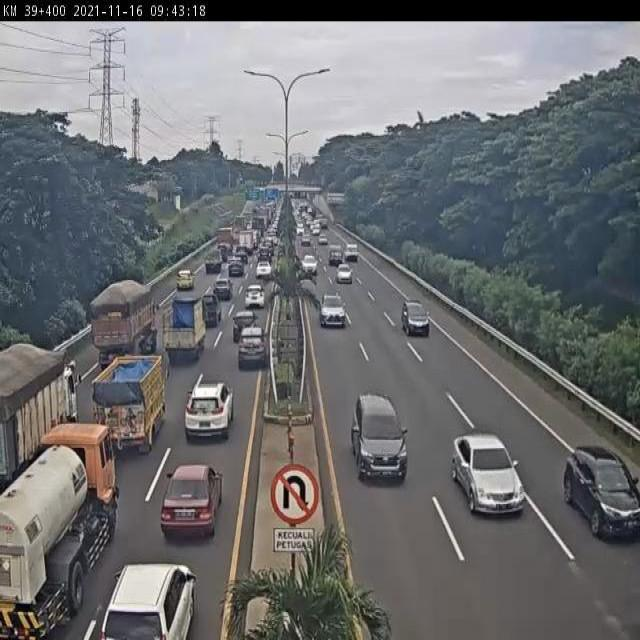car: (565, 438, 640, 546), (100, 561, 197, 640), (453, 429, 528, 522), (349, 391, 408, 484), (160, 463, 224, 537), (188, 383, 232, 452), (237, 327, 268, 368), (400, 299, 431, 336), (197, 294, 221, 330), (321, 291, 345, 324), (233, 311, 258, 338), (243, 282, 265, 306), (213, 277, 233, 300), (176, 270, 194, 290), (336, 262, 353, 282)
truck-l-: (0, 343, 84, 500), (90, 279, 161, 381)
truck-m-: (0, 424, 115, 637), (99, 348, 166, 445), (162, 300, 204, 361)
